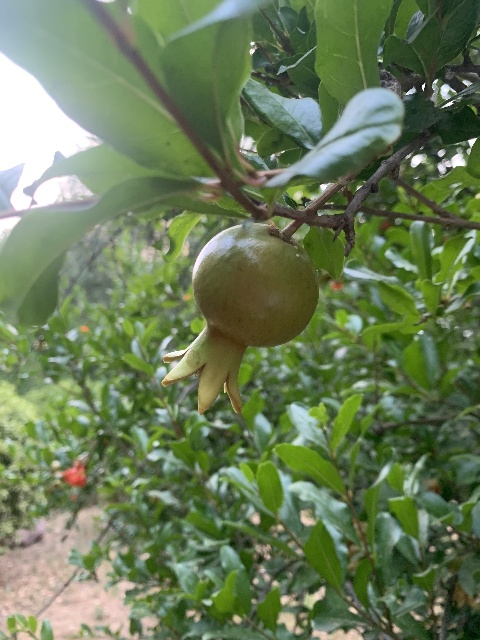mid-growth: (160, 223, 319, 417)
